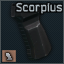AK Aeroknox Scorpius pistol grip: (0, 0, 64, 64)
